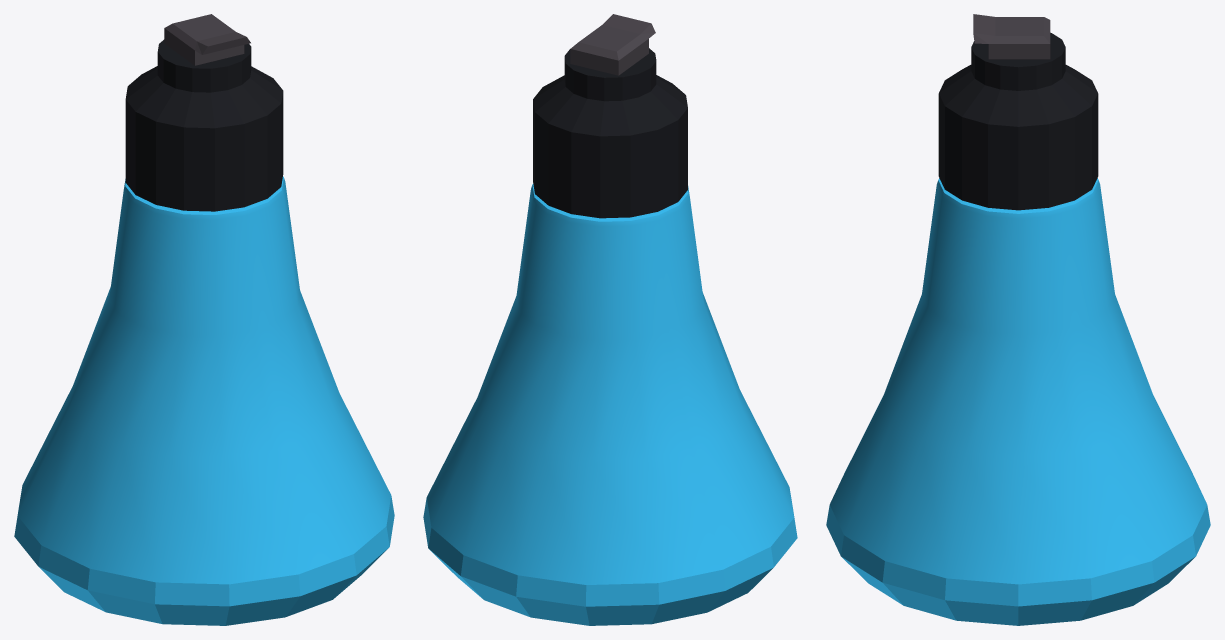
File: SM_salt_glass.fbx
The picture shows the model from 3 angles, left to right: view 1: azimuth 30°, elevation 25°; view 2: azimuth 150°, elevation 25°; view 3: azimuth 270°, elevation 25°; orthographic projection.
Parts seen in each view (by area): view 1: salt_glass; view 2: salt_glass; view 3: salt_glass.
Part boxes in pixels (bbox=[...]): salt_glass: bbox=[14, 14, 394, 625]; salt_glass: bbox=[423, 14, 797, 625]; salt_glass: bbox=[826, 14, 1210, 625].
Bounding box in the file's own units: 14.29 × 21.89 × 14.29.
